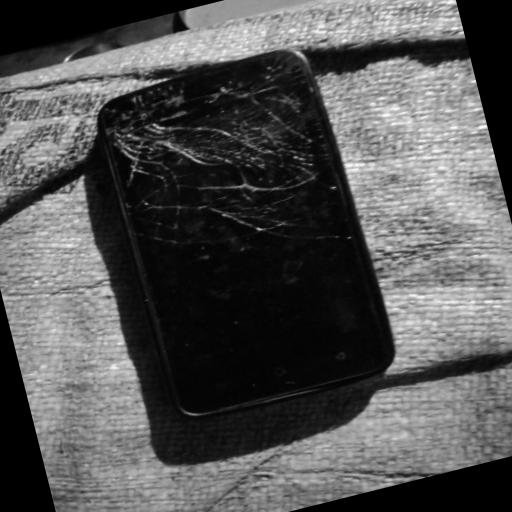phone: (99, 32, 421, 439)
